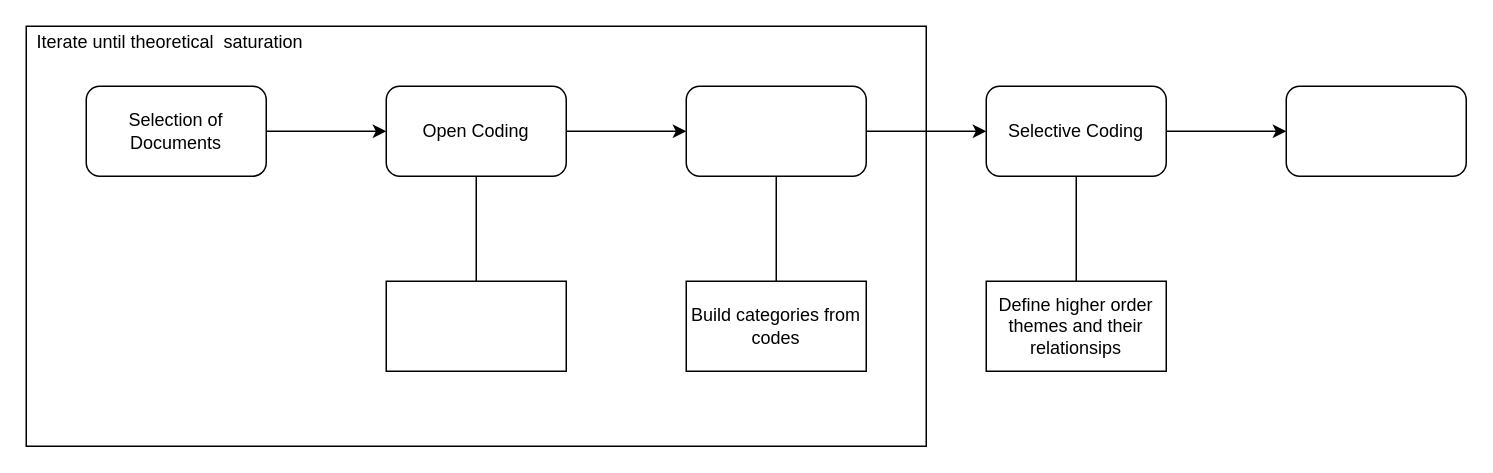
Some shapes in this 1493 by 473 pixel diagram are drawn without their labels. The centre of each missing label's shape, as x and y in pixels:
"Axial Coding" goes at pixel 775 130.
"Extract codes from selected documents" goes at pixel 475 325.
"Textual description of themes, codes and categories" goes at pixel 1375 130.
